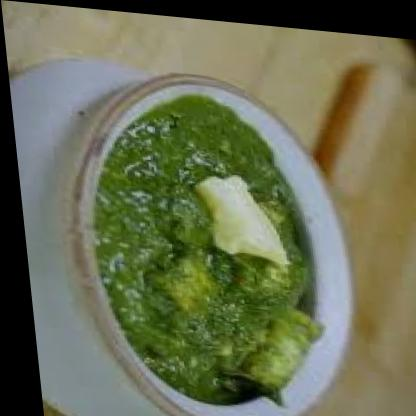palak_paneer: (77, 82, 325, 411)
